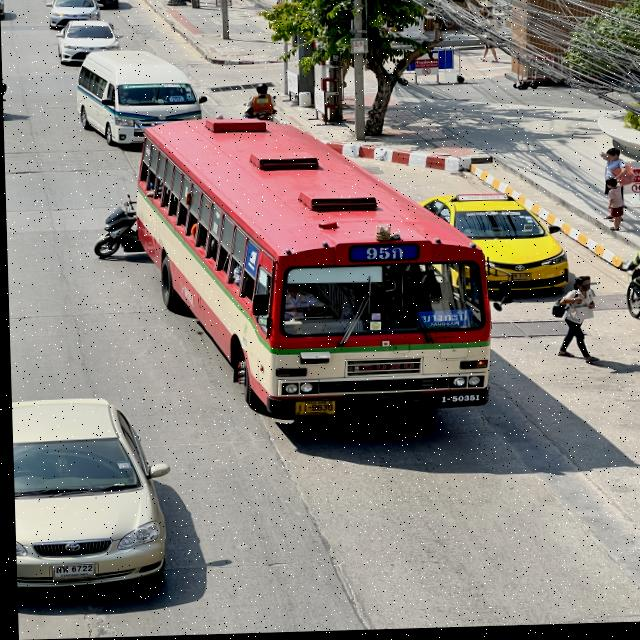BMTA-bus: (128, 119, 491, 424)
Bus Line Number: (346, 246, 419, 267)
Bus Side Number: (435, 396, 480, 406)
Destination Sign: (416, 312, 471, 331)
